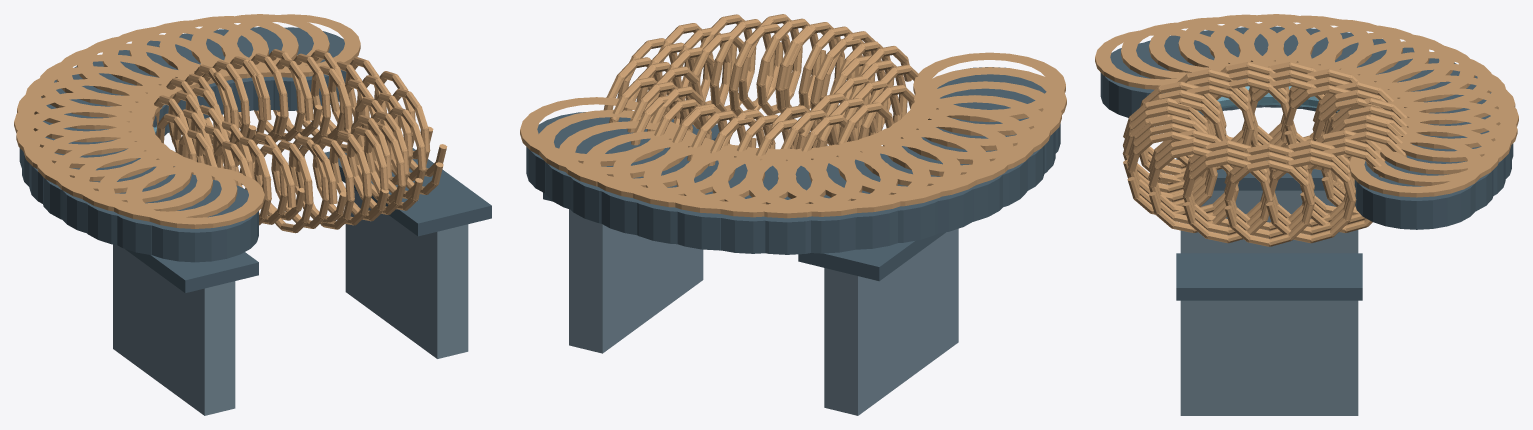
File: 08_L75_MagneticMassAnalyzer.glb
The picture shows the model from 3 angles, left to right: view 1: azimuth 30°, elevation 25°; view 2: azimuth 150°, elevation 25°; view 3: azimuth 270°, elevation 25°; orthographic projection. The views are drawn at different scales.
Parts seen in each view (by area): view 1: MagneticMassAnalyzer_Node_1131, MagneticMassAnalyzer_Node_1133, MagneticMassAnalyzer_Node_0000, MagneticMassAnalyzer_Node_1134, MagneticMassAnalyzer_Node_0001, MagneticMassAnalyzer_Node_1132, MagneticMassAnalyzer_Node_0005, MagneticMassAnalyzer_Node_0003, MagneticMassAnalyzer_Node_0009, MagneticMassAnalyzer_Node_0007, MagneticMassAnalyzer_Node_0011, MagneticMassAnalyzer_Node_0013 (+24 smaller); view 2: MagneticMassAnalyzer_Node_1131, MagneticMassAnalyzer_Node_1133, MagneticMassAnalyzer_Node_0013, MagneticMassAnalyzer_Node_0003, MagneticMassAnalyzer_Node_0017, MagneticMassAnalyzer_Node_0001, MagneticMassAnalyzer_Node_0005, MagneticMassAnalyzer_Node_0023, MagneticMassAnalyzer_Node_0015, MagneticMassAnalyzer_Node_0009, MagneticMassAnalyzer_Node_1132, MagneticMassAnalyzer_Node_0007 (+26 smaller); view 3: MagneticMassAnalyzer_Node_1133, MagneticMassAnalyzer_Node_1134, MagneticMassAnalyzer_Node_0034, MagneticMassAnalyzer_Node_1131, MagneticMassAnalyzer_Node_0001, MagneticMassAnalyzer_Node_0031, MagneticMassAnalyzer_Node_0035, MagneticMassAnalyzer_Node_0000, MagneticMassAnalyzer_Node_0003, MagneticMassAnalyzer_Node_0033, MagneticMassAnalyzer_Node_0025, MagneticMassAnalyzer_Node_0005 (+21 smaller).
Boxes of the visible parts, x1=… form: MagneticMassAnalyzer_Node_1131: x1=113, y1=244, x2=235, y2=415; MagneticMassAnalyzer_Node_1133: x1=345, y1=187, x2=468, y2=358; MagneticMassAnalyzer_Node_0000: x1=142, y1=178, x2=258, y2=262; MagneticMassAnalyzer_Node_1134: x1=324, y1=148, x2=491, y2=236; MagneticMassAnalyzer_Node_0001: x1=125, y1=166, x2=264, y2=228; MagneticMassAnalyzer_Node_1132: x1=125, y1=249, x2=258, y2=293; MagneticMassAnalyzer_Node_0005: x1=73, y1=151, x2=212, y2=211; MagneticMassAnalyzer_Node_0003: x1=98, y1=159, x2=237, y2=221; MagneticMassAnalyzer_Node_0009: x1=36, y1=130, x2=175, y2=192; MagneticMassAnalyzer_Node_0007: x1=53, y1=141, x2=191, y2=202; MagneticMassAnalyzer_Node_0011: x1=23, y1=118, x2=162, y2=181; MagneticMassAnalyzer_Node_0013: x1=16, y1=105, x2=155, y2=168; MagneticMassAnalyzer_Node_1131: x1=824, y1=228, x2=958, y2=415; MagneticMassAnalyzer_Node_1133: x1=569, y1=209, x2=703, y2=353; MagneticMassAnalyzer_Node_0013: x1=838, y1=129, x2=990, y2=196; MagneticMassAnalyzer_Node_0003: x1=914, y1=67, x2=1066, y2=136; MagneticMassAnalyzer_Node_0017: x1=778, y1=143, x2=930, y2=212; MagneticMassAnalyzer_Node_0001: x1=913, y1=52, x2=1065, y2=122; MagneticMassAnalyzer_Node_0005: x1=910, y1=81, x2=1061, y2=150; MagneticMassAnalyzer_Node_0023: x1=676, y1=147, x2=829, y2=217; MagneticMassAnalyzer_Node_0015: x1=809, y1=137, x2=961, y2=206; MagneticMassAnalyzer_Node_0009: x1=883, y1=108, x2=1035, y2=176; MagneticMassAnalyzer_Node_1132: x1=798, y1=232, x2=945, y2=281; MagneticMassAnalyzer_Node_0007: x1=898, y1=95, x2=1050, y2=164; MagneticMassAnalyzer_Node_1133: x1=1180, y1=300, x2=1358, y2=415; MagneticMassAnalyzer_Node_1134: x1=1176, y1=253, x2=1362, y2=300; MagneticMassAnalyzer_Node_0034: x1=1354, y1=161, x2=1475, y2=229; MagneticMassAnalyzer_Node_1131: x1=1180, y1=190, x2=1358, y2=253; MagneticMassAnalyzer_Node_0001: x1=1095, y1=28, x2=1229, y2=89; MagneticMassAnalyzer_Node_0031: x1=1376, y1=113, x2=1511, y2=174; MagneticMassAnalyzer_Node_0035: x1=1349, y1=136, x2=1484, y2=197; MagneticMassAnalyzer_Node_0000: x1=1100, y1=41, x2=1214, y2=117; MagneticMassAnalyzer_Node_0003: x1=1121, y1=22, x2=1255, y2=79; MagneticMassAnalyzer_Node_0033: x1=1366, y1=125, x2=1498, y2=186; MagneticMassAnalyzer_Node_0025: x1=1389, y1=75, x2=1515, y2=136; MagneticMassAnalyzer_Node_0005: x1=1149, y1=17, x2=1283, y2=73.
Size of the model in its own units: 3.21 by 1.94 by 3.07.
